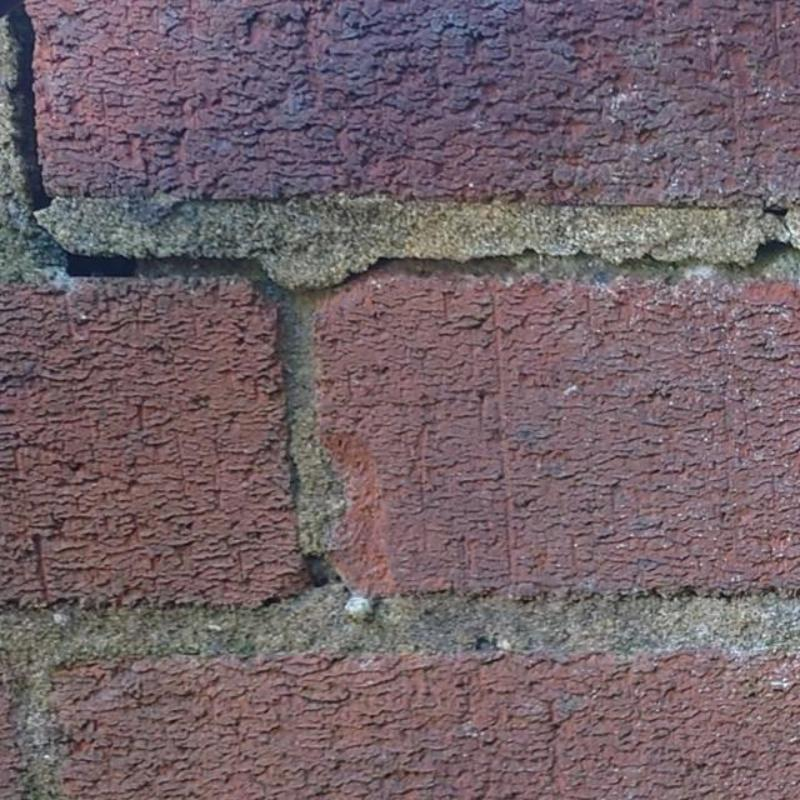pothole: (5, 5, 50, 209), (67, 253, 136, 277)
